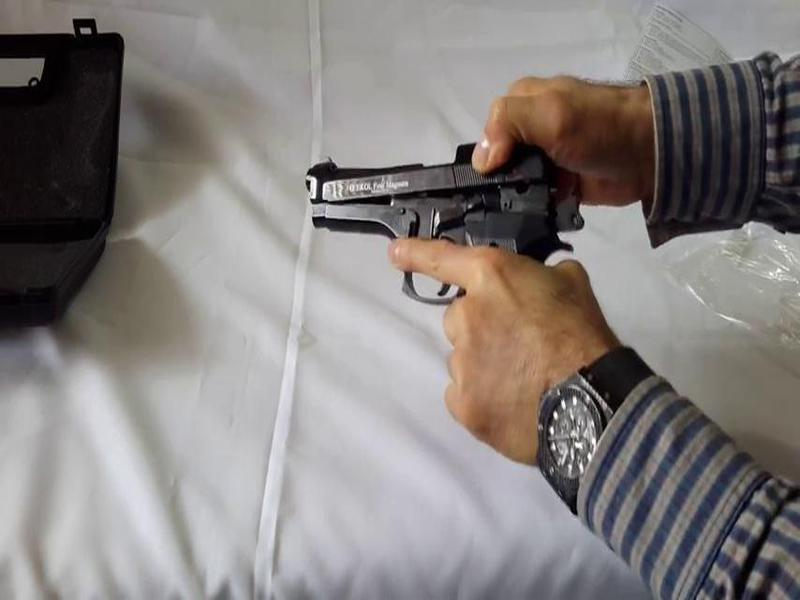Pistola: (300, 132, 576, 362)
